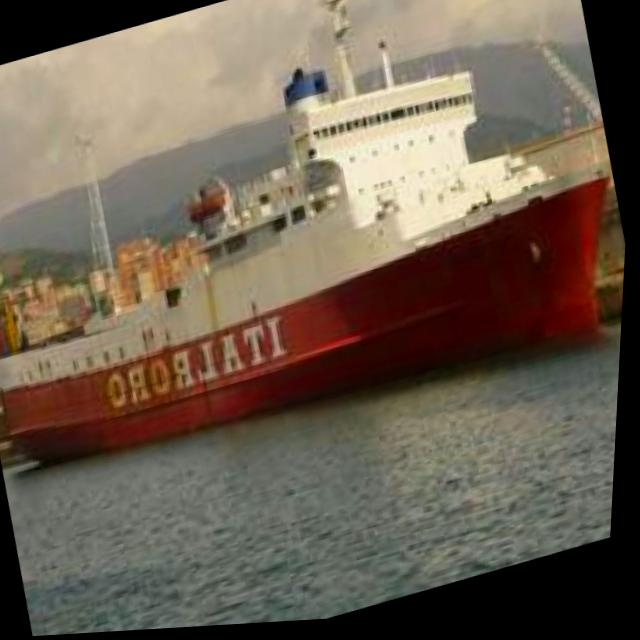ship2: (0, 0, 612, 468)
